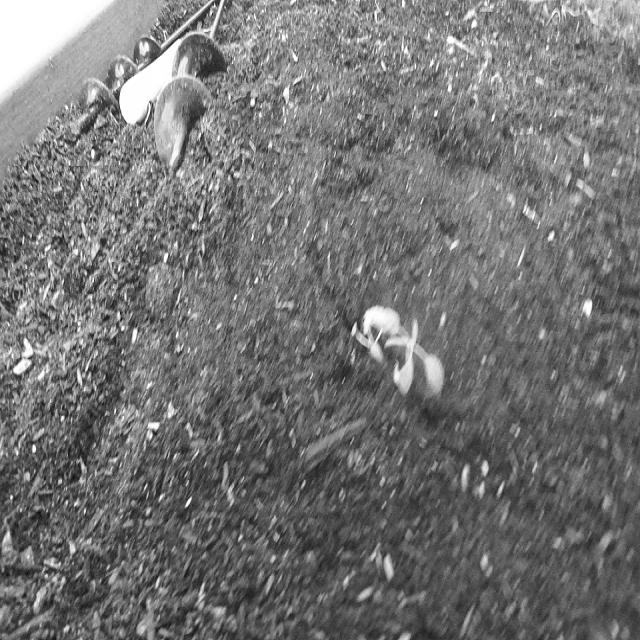Healthy: (346, 282, 452, 419)
